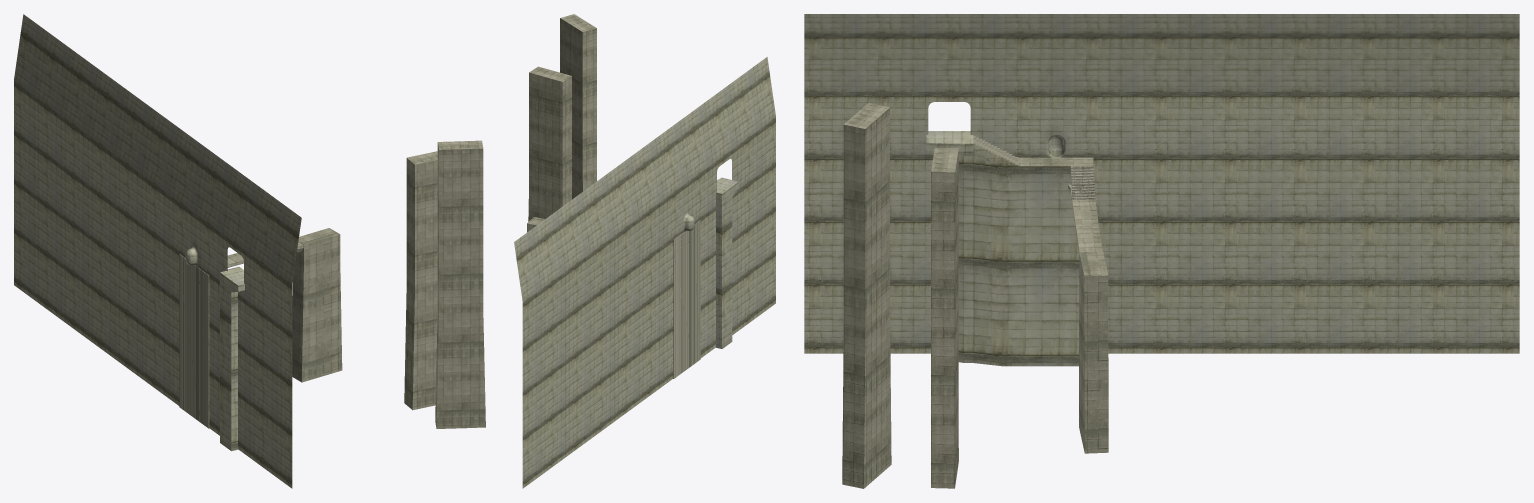
File: CouloirTouffu_Block_08.fbx
The picture shows the model from 3 angles, left to right: view 1: azimuth 30°, elevation 25°; view 2: azimuth 150°, elevation 25°; view 3: azimuth 270°, elevation 25°; orthographic projection. The views are drawn at different scales.
Parts seen in each view (by area): view 1: CouloirTouffu_Block_08; view 2: CouloirTouffu_Block_08; view 3: CouloirTouffu_Block_08.
Boxes of the visible parts, <box> form: CouloirTouffu_Block_08: <box>14,14,485,488</box>; CouloirTouffu_Block_08: <box>514,14,775,488</box>; CouloirTouffu_Block_08: <box>804,14,1519,488</box>.
Bounding box in the file's own units: 5931 × 7097 × 12816.
